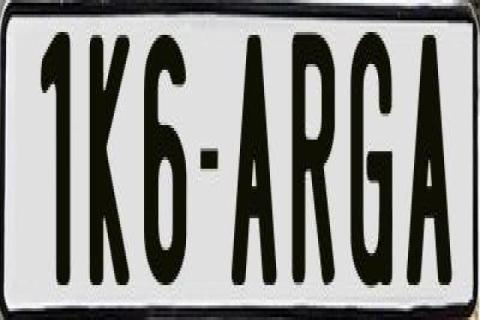0: (142, 32, 184, 282), (41, 23, 75, 285)
A: (228, 35, 280, 303), (406, 35, 458, 285)
G: (348, 29, 396, 285)
K: (86, 35, 132, 297)
R: (288, 32, 338, 300)
